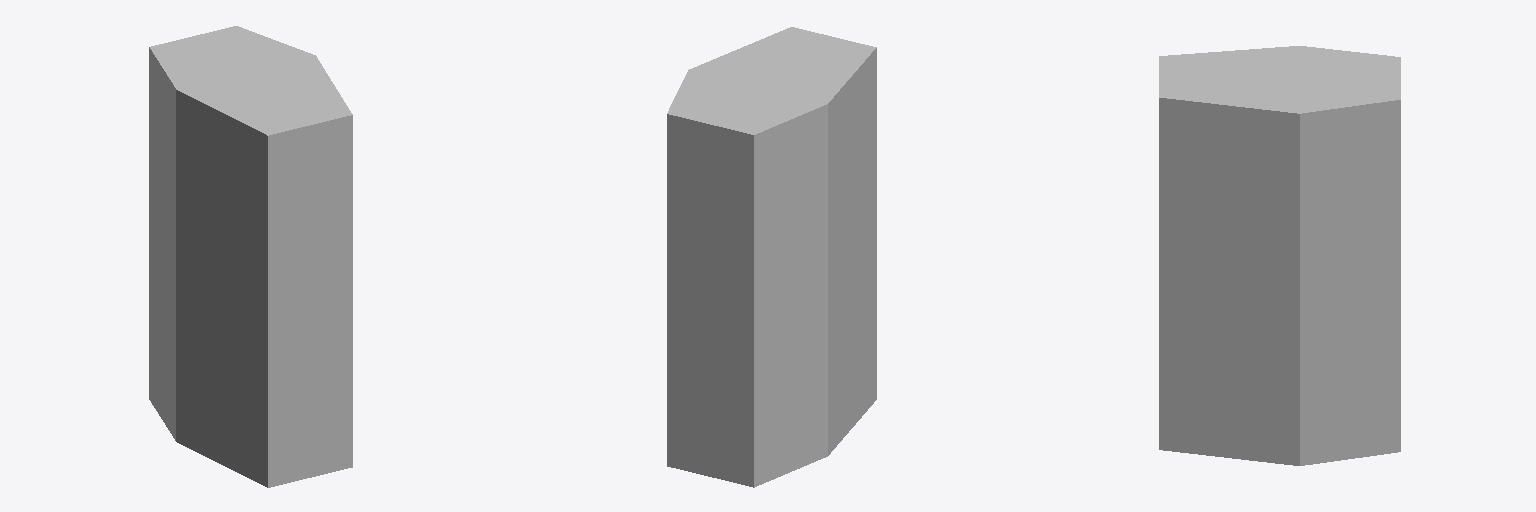
The model's file is bigBlock.obj.
3 views of the same model, side by side, from view 1: azimuth 30°, elevation 25°; view 2: azimuth 150°, elevation 25°; view 3: azimuth 270°, elevation 25° (orthographic).
Parts seen in each view (by area): view 1: bigBlock; view 2: bigBlock; view 3: bigBlock.
Part boxes in pixels (x1,y1,x2,y2): bigBlock: (149, 26, 352, 487); bigBlock: (667, 27, 876, 487); bigBlock: (1159, 46, 1400, 465).
Bounding box in the file's own units: 3.2 × 7.71 × 4.78.